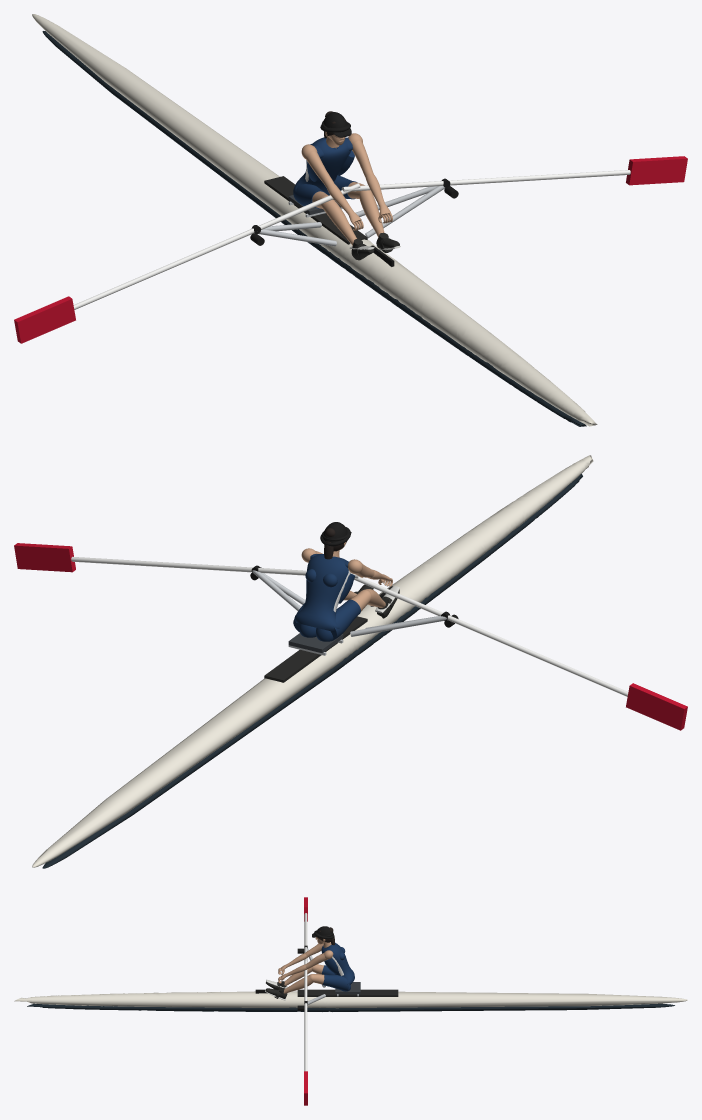
File: scull-female.glb
The picture shows the model from 3 angles, top to bottom: view 1: azimuth 30°, elevation 25°; view 2: azimuth 150°, elevation 25°; view 3: azimuth 270°, elevation 25°; orthographic projection. The views are drawn at different scales.
Visible parts, largest first — view 1: Hull, Hull_Underside, LeftOar_Shaft, LeftOar_Blade, RightOar_Blade, RightOar_Shaft, Torso_Spine, Cockpit, LeftShin; view 2: Hull, Hull_Underside, Torso_Spine, LeftOar_Shaft, LeftOar_Blade, RightOar_Blade, RightOar_Shaft, Cockpit, LeftThigh; view 3: Hull, Hull_Underside, Torso_Spine, Cockpit, RightOar_Shaft, RightThigh.
Part boxes in pixels (box(x1,y1,x2,y2)): Hull: box(32, 14, 597, 426); Hull_Underside: box(42, 31, 586, 426); LeftOar_Shaft: box(73, 183, 360, 309); LeftOar_Blade: box(14, 296, 75, 343); RightOar_Blade: box(626, 156, 687, 185); RightOar_Shaft: box(341, 170, 630, 191); Torso_Spine: box(294, 137, 354, 199); Cockpit: box(264, 176, 367, 244); LeftShin: box(320, 199, 356, 245); Hull: box(32, 455, 593, 867); Hull_Underside: box(42, 473, 582, 868); Torso_Spine: box(294, 554, 354, 641); LeftOar_Shaft: box(354, 577, 628, 696); LeftOar_Blade: box(626, 683, 687, 730); RightOar_Blade: box(14, 543, 75, 572); RightOar_Shaft: box(71, 556, 359, 578); Cockpit: box(264, 616, 367, 682); LeftThigh: box(331, 599, 360, 639); Hull: box(14, 991, 687, 1008); Hull_Underside: box(27, 1003, 674, 1011); Torso_Spine: box(321, 942, 354, 991); Cockpit: box(297, 989, 398, 996); RightOar_Shaft: box(304, 960, 307, 1071); RightThigh: box(322, 974, 349, 991).
Bounding box in the file's own units: 5.53 × 1.1 × 8.03.
